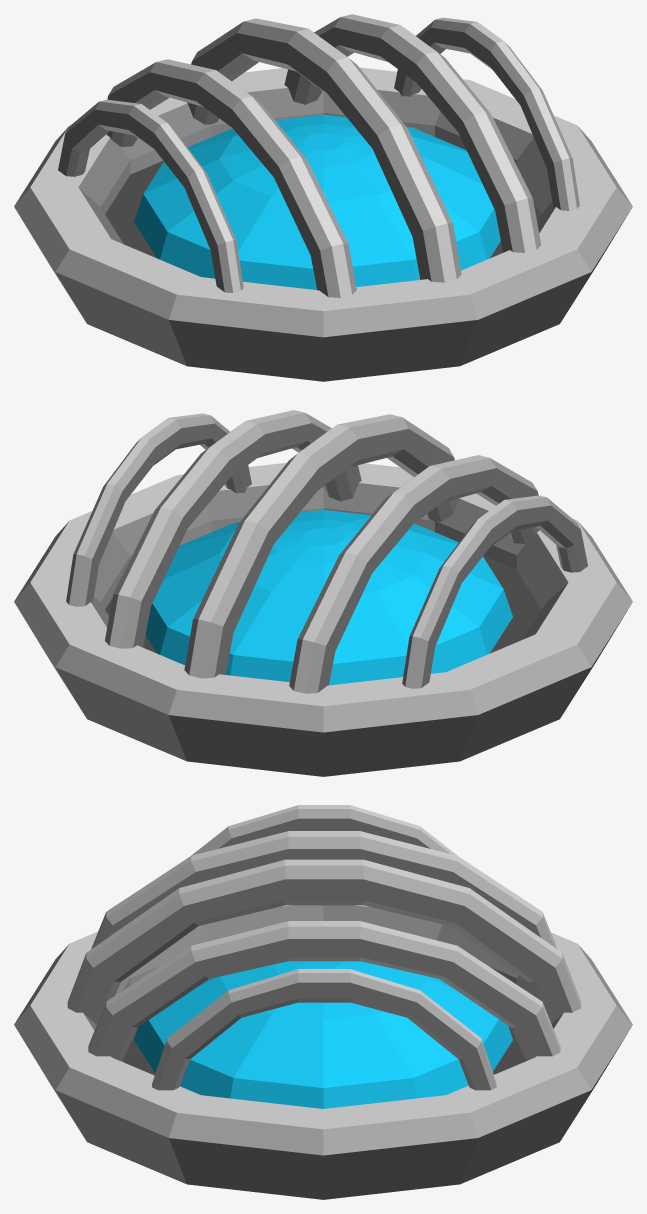
File: Lamp_Ceiling_White.FBX
3 renders of one model, top to bottom at view 1: azimuth 30°, elevation 25°; view 2: azimuth 150°, elevation 25°; view 3: azimuth 270°, elevation 25°, orthographic.
Parts seen in each view (by area): view 1: Lamp_Ceiling; view 2: Lamp_Ceiling; view 3: Lamp_Ceiling.
Part boxes in pixels (x1,y1,x2,y2): Lamp_Ceiling: (14,14,632,381); Lamp_Ceiling: (14,410,632,776); Lamp_Ceiling: (14,805,632,1199).
Bounding box in the file's own units: 87.82 × 44.62 × 87.82.
